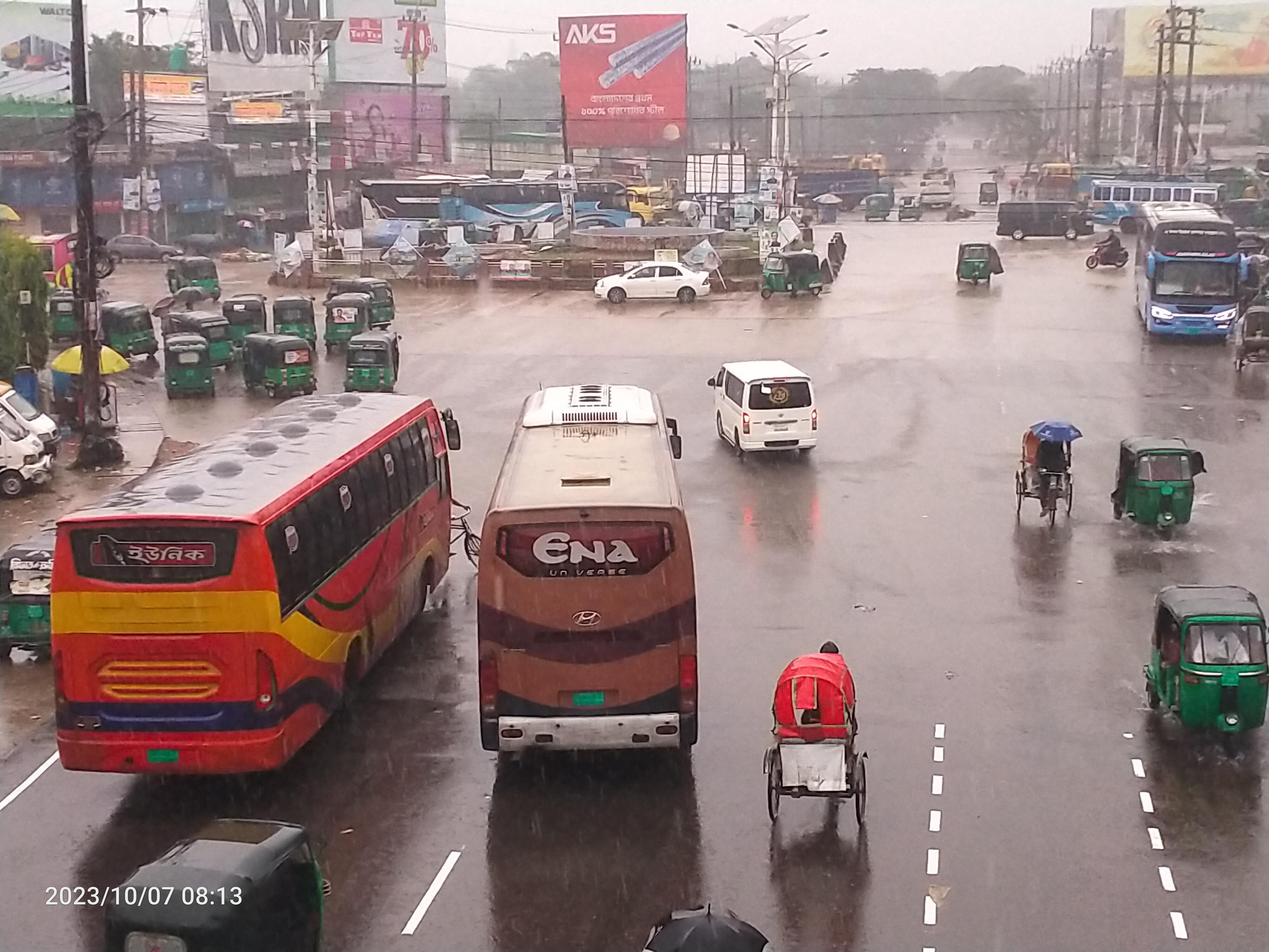Bike: (1075, 226, 1144, 285)
Bus: (16, 384, 453, 784), (461, 366, 722, 814), (334, 163, 567, 254), (1127, 201, 1255, 358), (1079, 155, 1245, 234), (905, 160, 961, 217)
Car: (742, 625, 894, 854), (698, 350, 840, 485), (986, 388, 1086, 553), (569, 251, 720, 326), (991, 198, 1104, 254), (97, 226, 192, 276), (1230, 294, 1269, 405)
